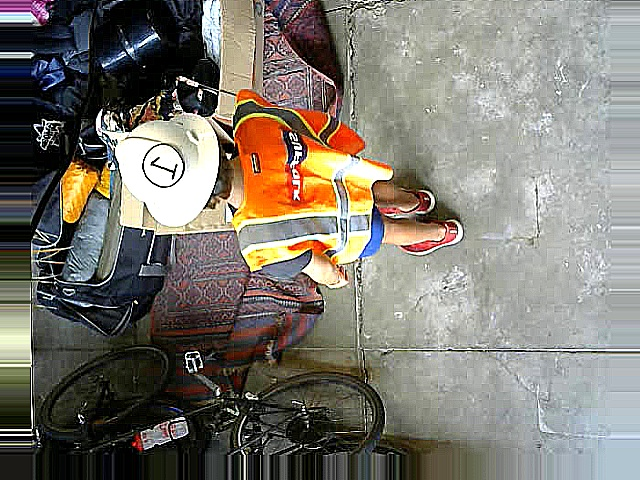one: (141, 142, 182, 186)
